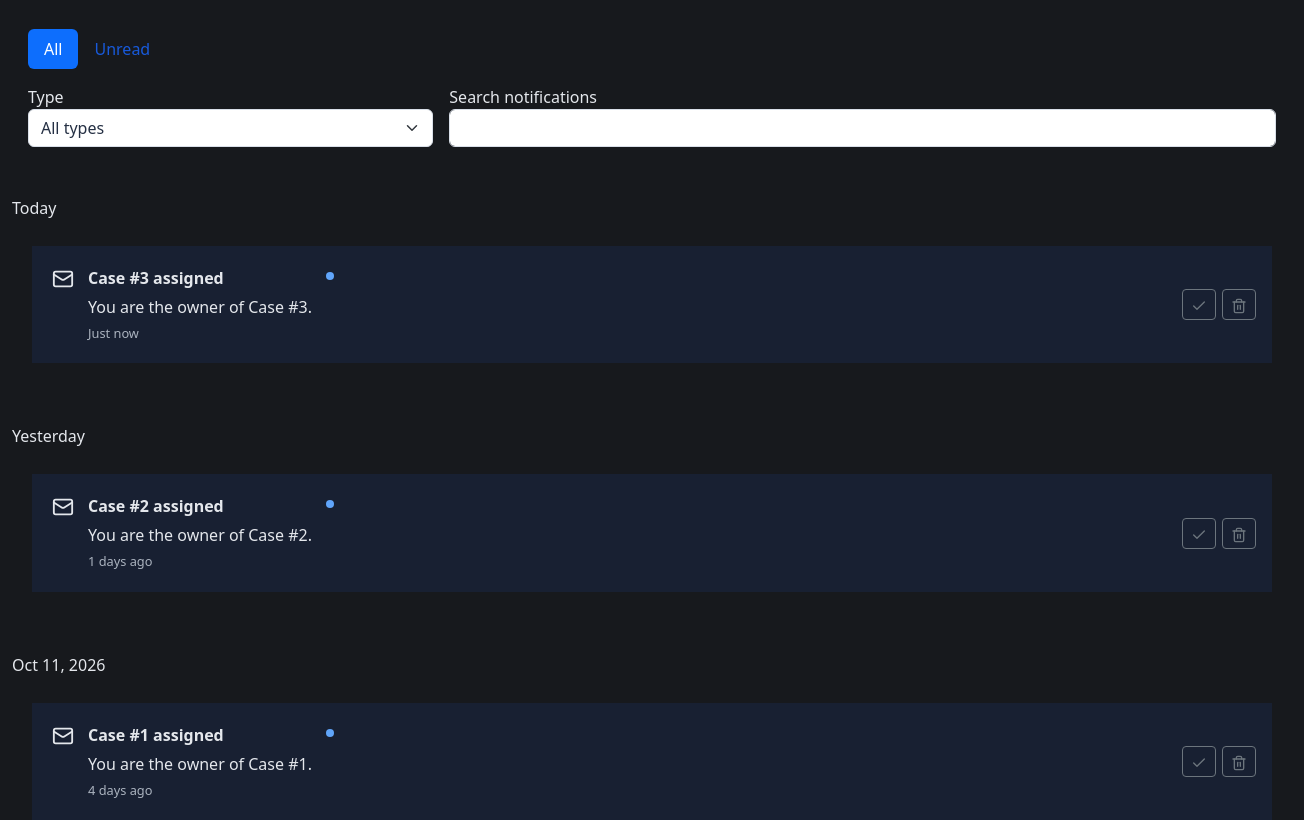
Test: marks a clicked row read before navigating and preserves Notifications as its origin
Click the list item "Case #3 assigned".
click(652, 305)  # box left=32, top=246, right=1272, bottom=363
(page scrolled)
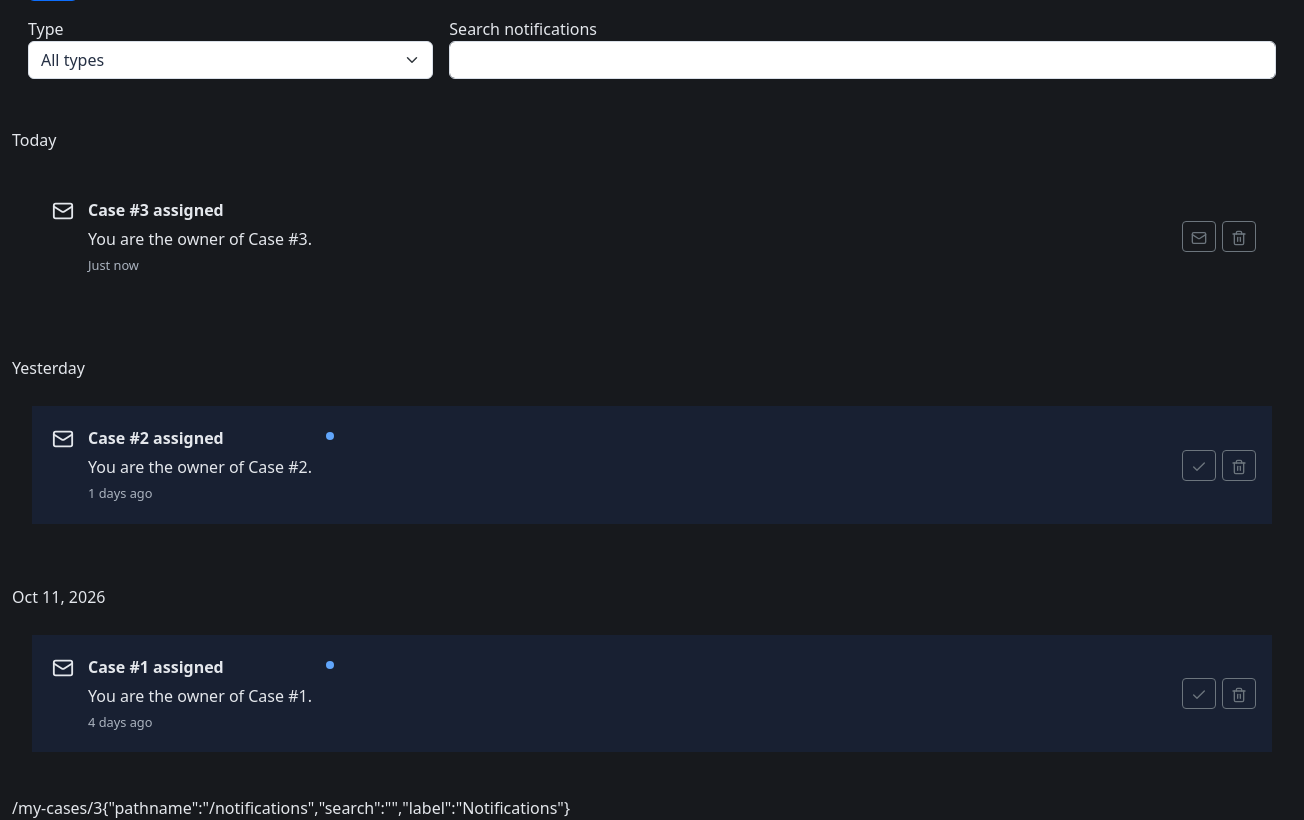
Check: the text named "Destination" reads "/my-cases/3", box left=12, top=797, right=102, bottom=819
